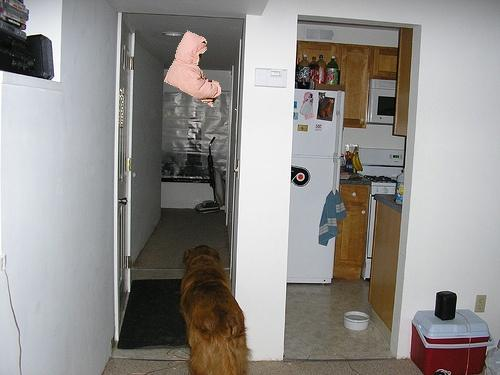tampered: (164, 31, 221, 107)
